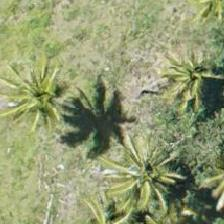coconut_tree: (110, 135, 200, 223), (0, 51, 77, 141), (149, 31, 223, 121), (70, 177, 160, 223)
